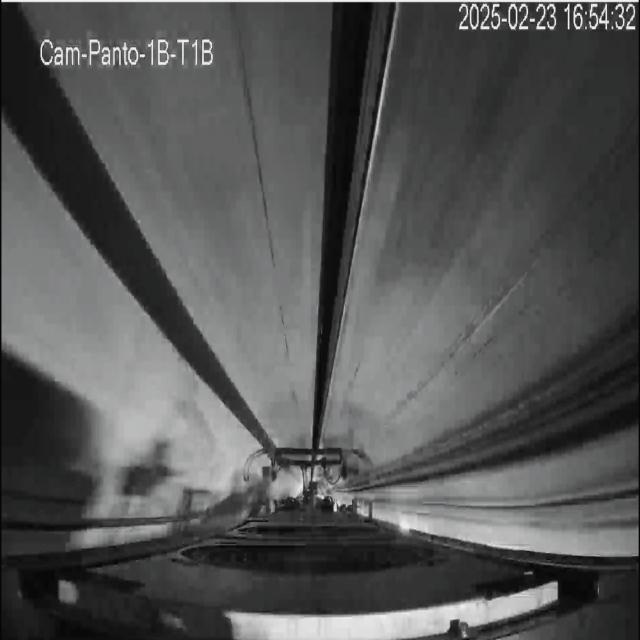Camera Stamp: (37, 29, 221, 70)
Date Stamp: (458, 3, 636, 33)
No - Spark: (107, 403, 296, 536), (255, 351, 362, 488)
